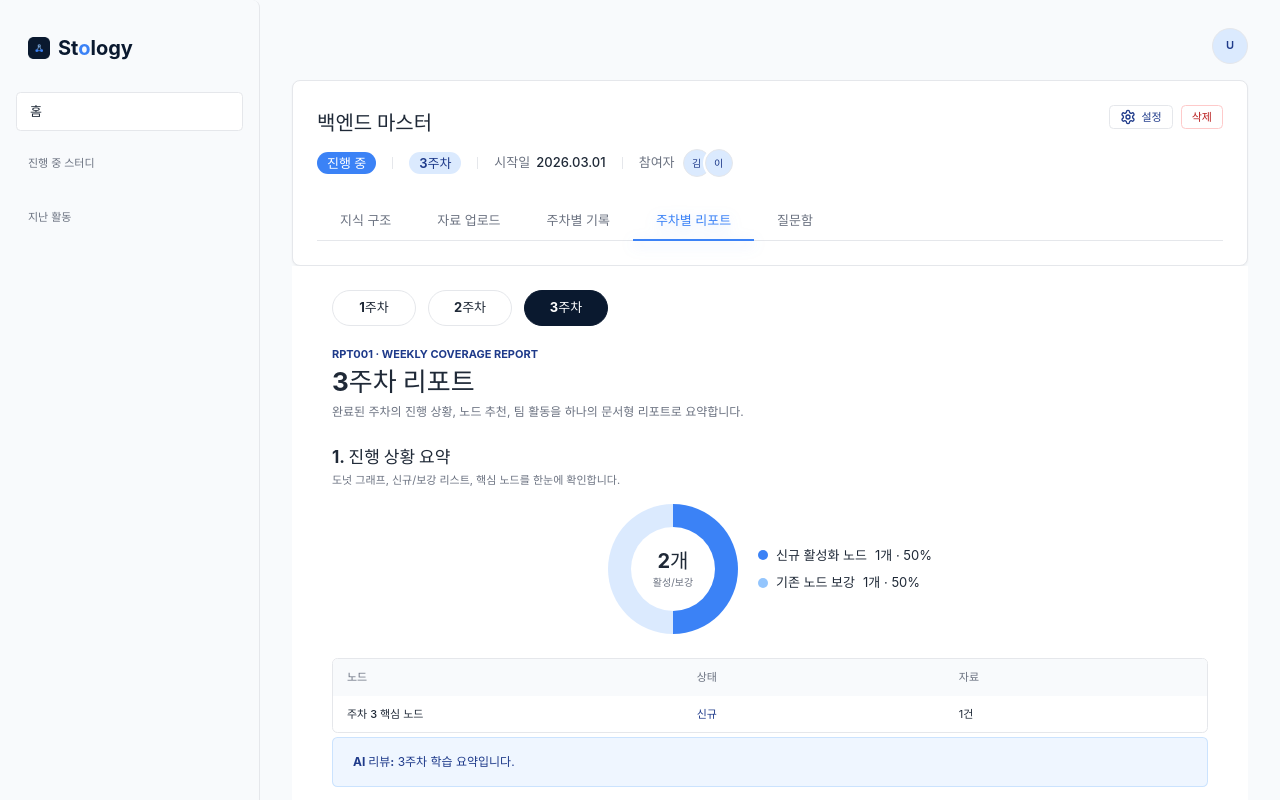
Test case: StudyPage reports route › 최신 리포트를 조회하고 선택한 주차를 다시 조회한다
expect the heading "3주차 리포트" is shown: met, box [332,366,475,397]
Click the button "2주차" at {"x": 470, "y": 308}, box [428,290,512,326]
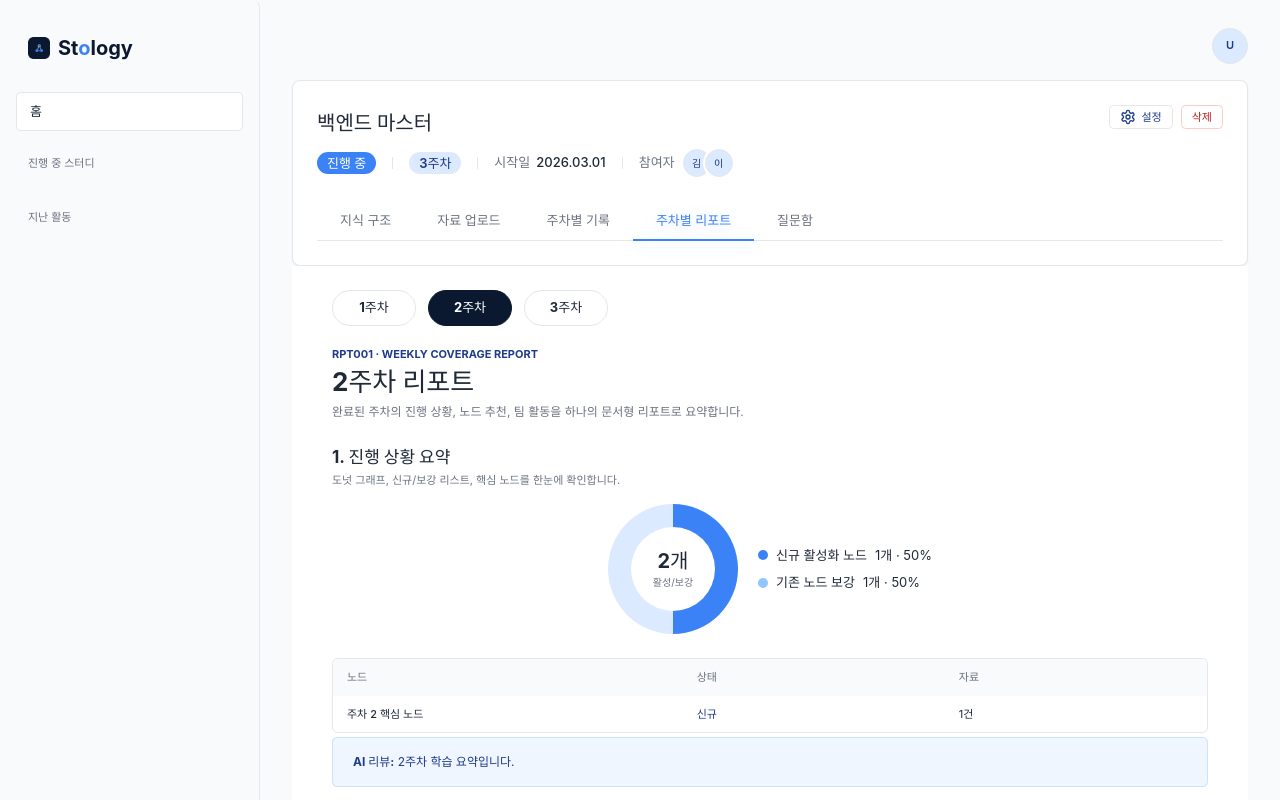
expect the heading "2주차 리포트" is shown: met, box [332,366,474,397]
